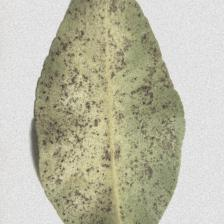canker: (52, 42, 164, 197)
